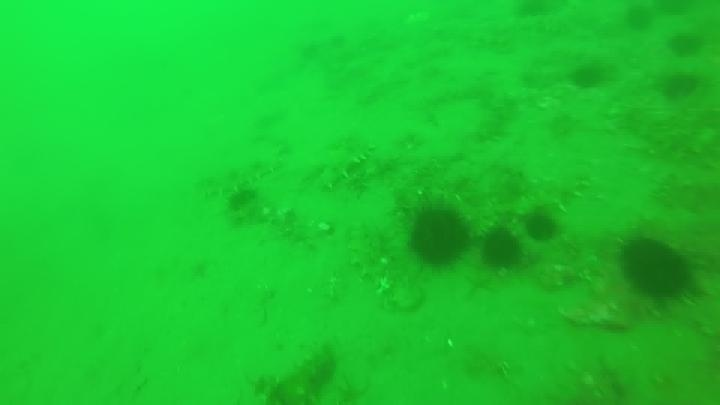echinus: (617, 235, 695, 304), (406, 203, 472, 269), (478, 225, 524, 272), (659, 70, 701, 103), (522, 210, 560, 244), (568, 60, 608, 92), (666, 30, 705, 60), (224, 185, 260, 215), (623, 4, 656, 33)
holothurian: (346, 223, 423, 312), (251, 343, 338, 404), (194, 146, 288, 199), (506, 164, 593, 215), (315, 135, 376, 192)
